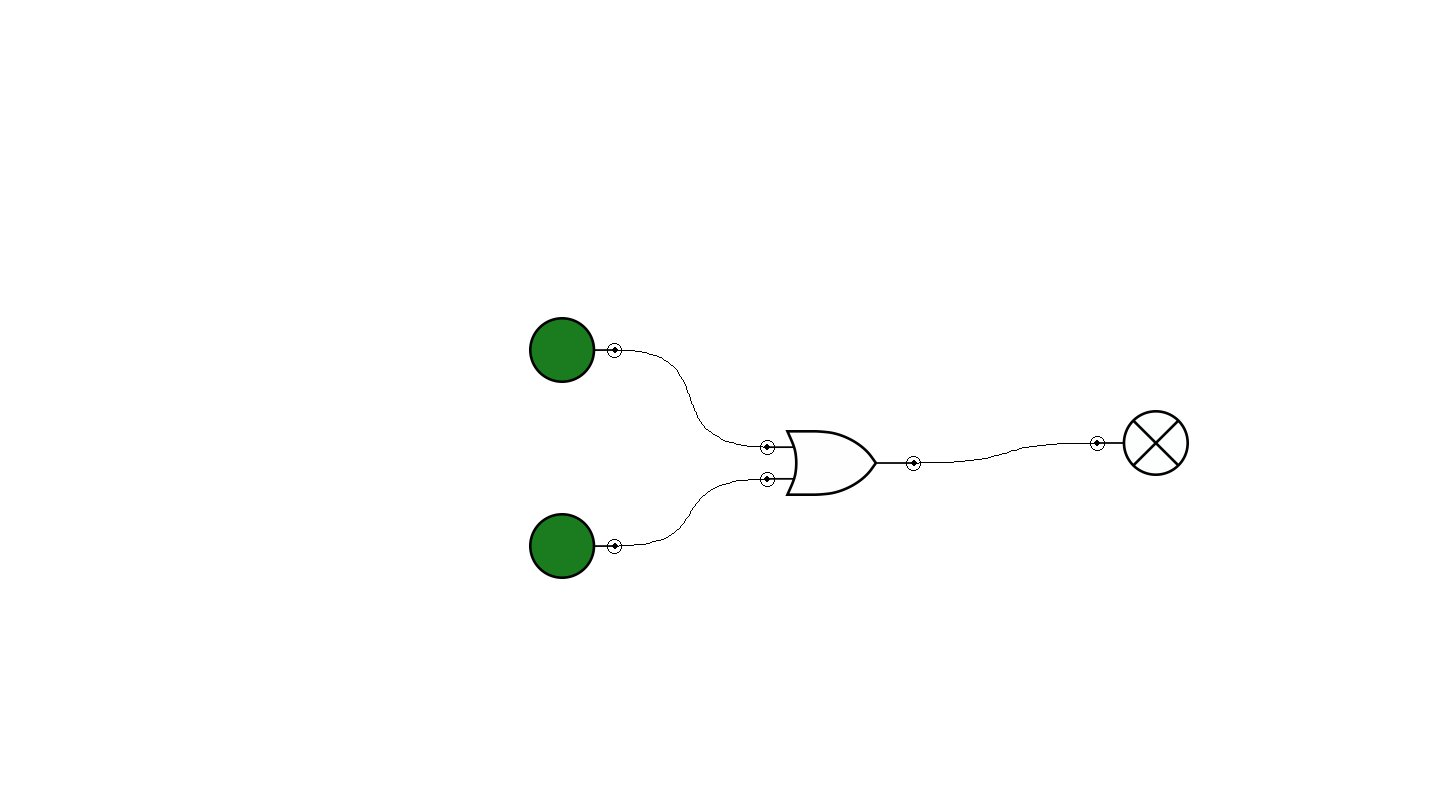bulb: (1090, 410, 1189, 476)
or: (760, 430, 921, 496)
switch_True: (529, 513, 622, 579), (529, 317, 622, 383)
